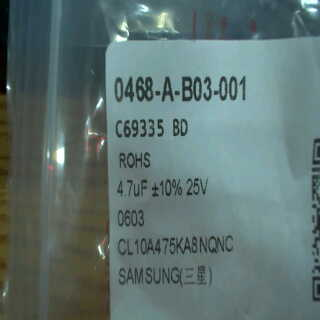4.7uF: (116, 176, 150, 204)
